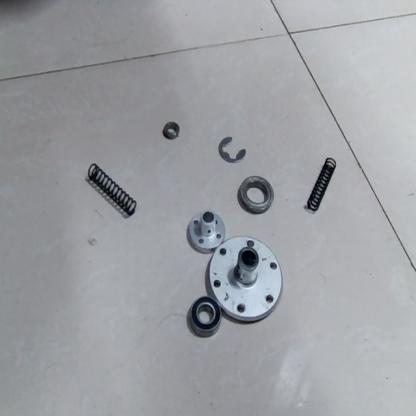FOD: (206, 233, 286, 329), (86, 162, 140, 218), (306, 150, 338, 216), (184, 207, 227, 253), (235, 172, 275, 216), (187, 293, 224, 338), (215, 132, 248, 165), (163, 119, 181, 140)
